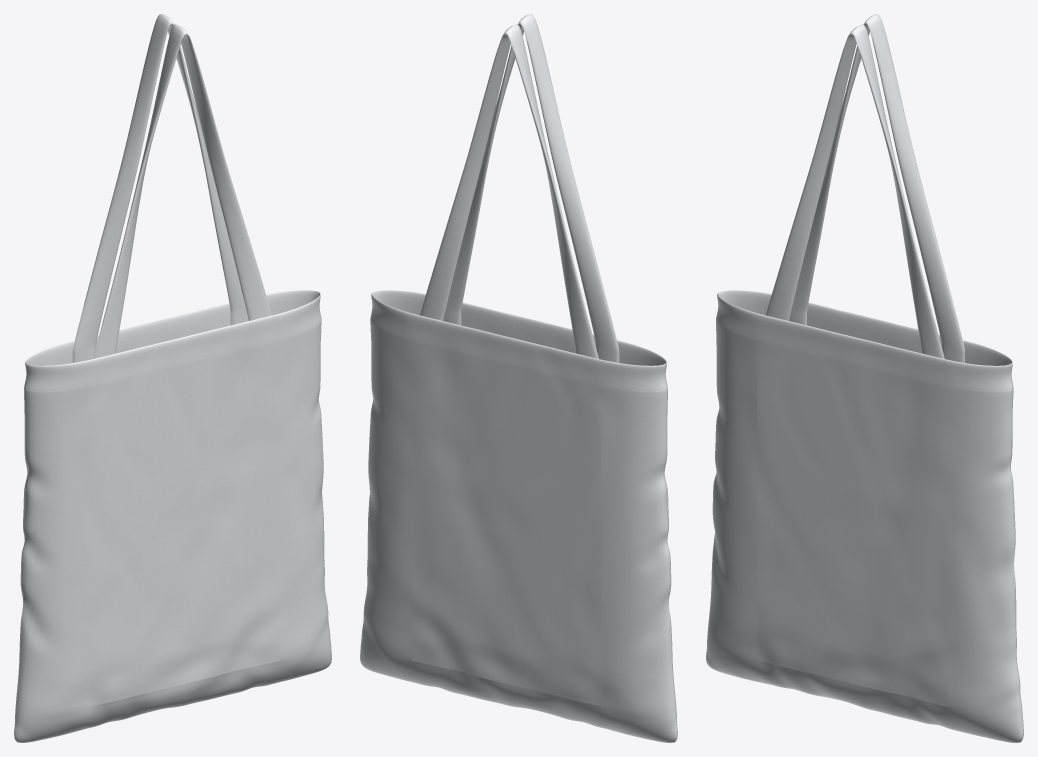
The model's file is bag.glb.
3 views of the same model, side by side, from view 1: azimuth 30°, elevation 25°; view 2: azimuth 150°, elevation 25°; view 3: azimuth 330°, elevation 25° (orthographic).
Visible parts, largest first — view 1: front.outside, front, back.handle, front.handle, back.in, back.outside; view 2: back.outside, back, front.handle, back.handle, front.in, front.outside; view 3: front.outside, front, back.handle, front.handle, back.in, back.outside.
Boxes of the visible parts, x1,y1,x2,y2 form: front.outside: (14,293,331,742); front: (89,380,280,706); back.handle: (72,14,248,362); front.handle: (93,24,271,358); back.in: (25,290,319,365); back.outside: (14,361,28,735); back.outside: (360,293,677,742); back: (411,380,602,706); front.handle: (443,14,619,362); back.handle: (420,24,598,358); front.in: (372,290,666,365); front.outside: (663,361,677,735); front.outside: (706,294,1023,742); front: (757,380,947,707); back.handle: (789,14,964,362); front.handle: (766,24,944,358); back.in: (718,290,1012,365); back.outside: (1010,361,1023,736).
Size of the model in its own units: 0.35 by 0.7232 by 0.05.
Materials: 1 (1 with a texture image).
